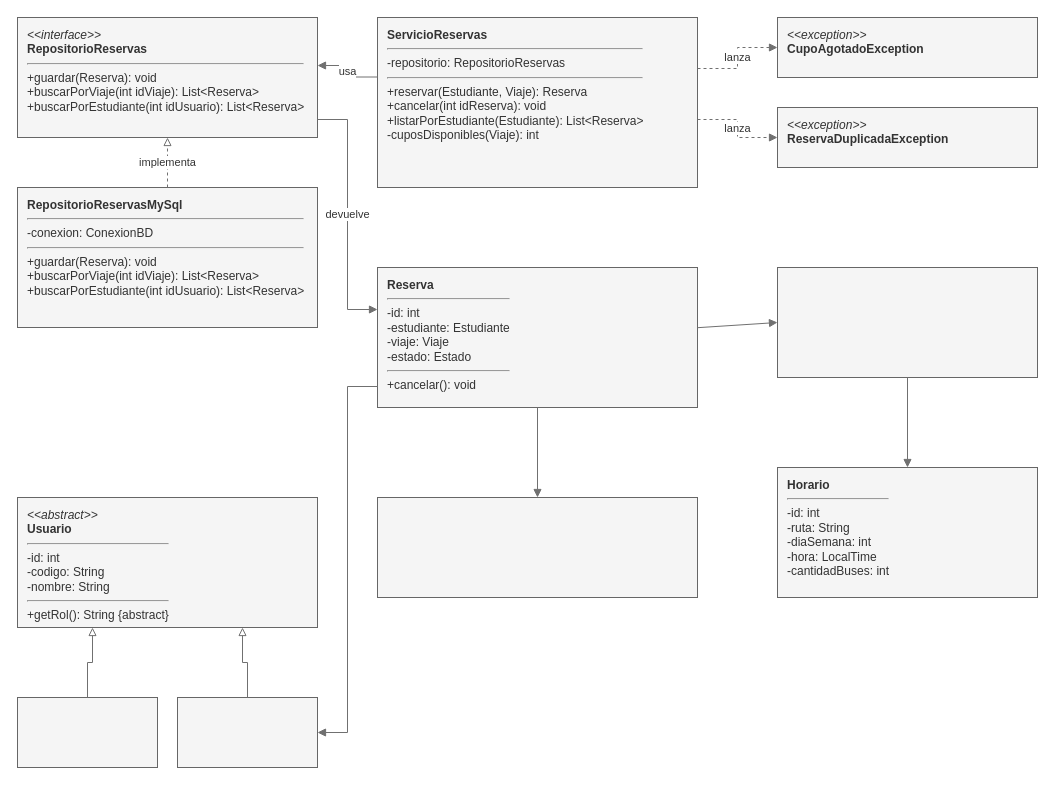
Image size: 1055x785. Some labels were removed from this diagram. Each missing label, with the box of its shape:
<<enumeration>> Estado CONFIRMADA CANCELADA: (376, 496, 698, 598)
Administrador +getRol(): String: (16, 696, 158, 768)
Estudiante +getRol(): String: (176, 696, 318, 768)
Viaje -id: int -horario: Horario -fecha: LocalDate -cuposTotal: int: (776, 266, 1038, 378)
